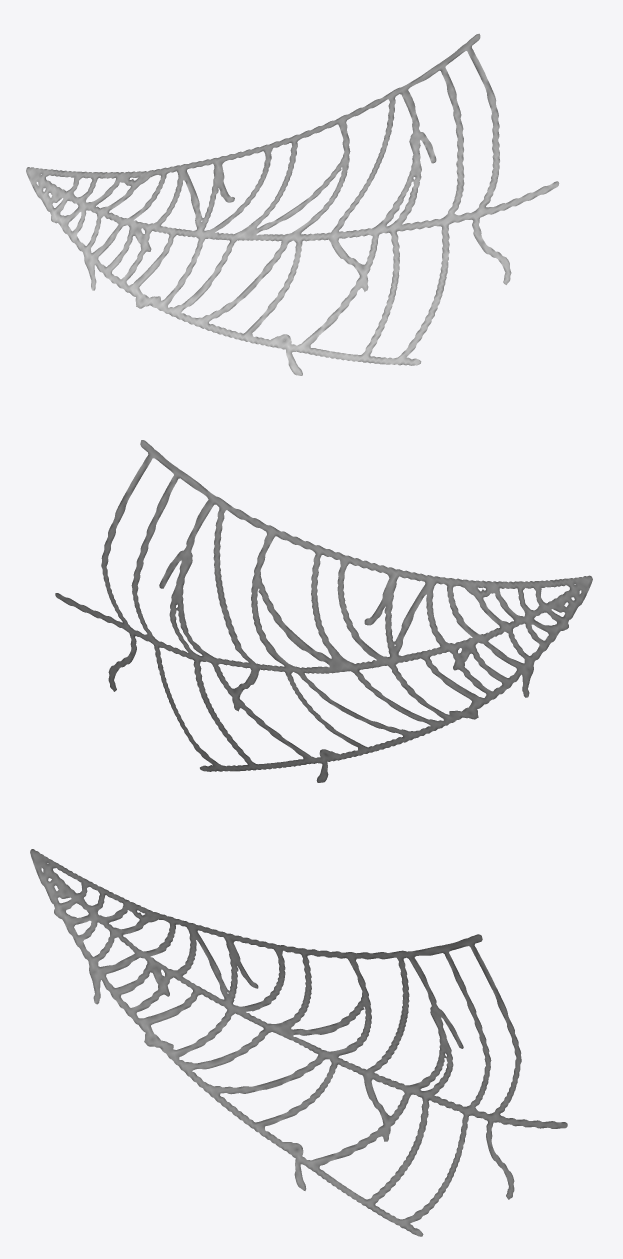
Rendered from prop_cobweb_sag.glb.
3 renders of one model, top to bottom at view 1: azimuth 30°, elevation 25°; view 2: azimuth 150°, elevation 25°; view 3: azimuth 330°, elevation 25°, orthographic.
Visible parts, largest first — view 1: SM_Cobwebs_16_Cobwebs_M_0; view 2: SM_Cobwebs_16_Cobwebs_M_0; view 3: SM_Cobwebs_16_Cobwebs_M_0.
Boxes of the visible parts, <box> form: SM_Cobwebs_16_Cobwebs_M_0: <box>26,33,559,375</box>; SM_Cobwebs_16_Cobwebs_M_0: <box>55,440,592,782</box>; SM_Cobwebs_16_Cobwebs_M_0: <box>30,849,567,1236</box>.
Bounding box in the file's own units: 1.2 × 0.6539 × 0.0673.
Materials: 1 (1 with a texture image).
